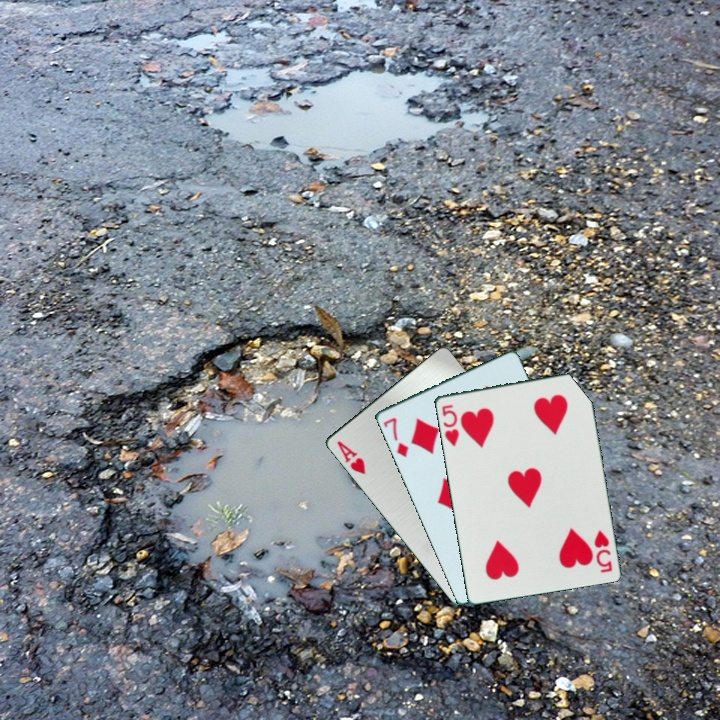5h: (590, 526, 615, 575), (438, 401, 462, 449)
7d: (379, 414, 411, 460)
Ah: (333, 437, 368, 477)
